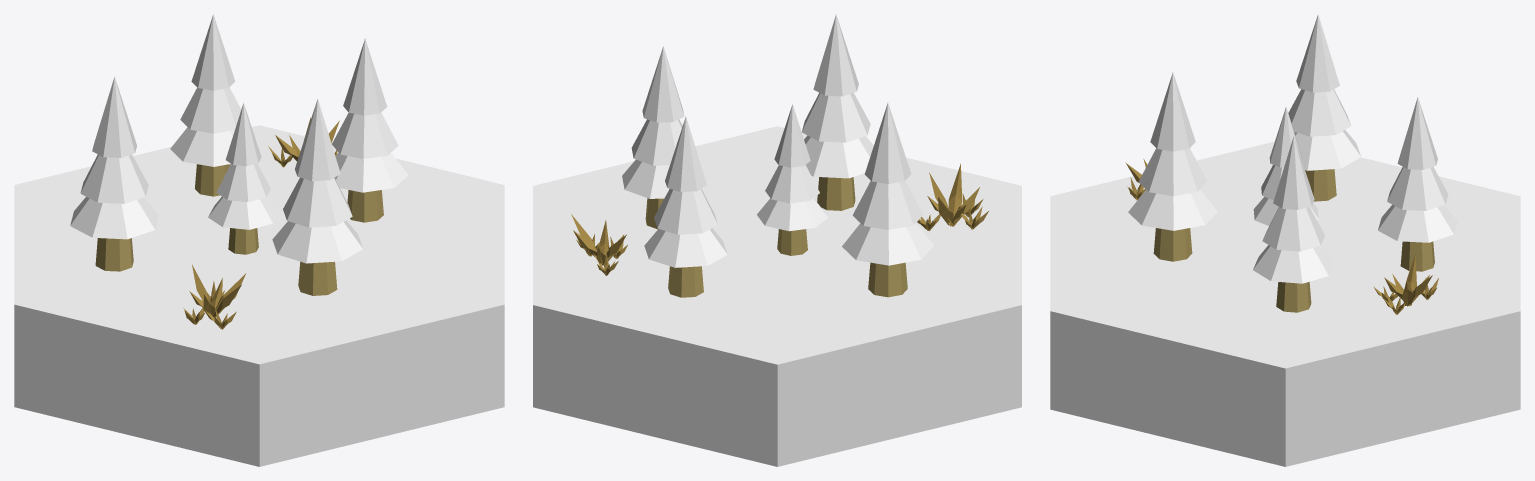
File: Pinos_Bajos_Nieve.fbx
3 renders of one model, left to right at view 1: azimuth 30°, elevation 25°; view 2: azimuth 150°, elevation 25°; view 3: azimuth 270°, elevation 25°, orthographic. The views are drawn at different scales.
Visible parts, largest first — view 1: Pinos_Bajos_Nieve; view 2: Pinos_Bajos_Nieve; view 3: Pinos_Bajos_Nieve.
Part boxes in pixels (x1,y1,x2,y2): Pinos_Bajos_Nieve: (14,14,504,466); Pinos_Bajos_Nieve: (533,14,1021,466); Pinos_Bajos_Nieve: (1050,14,1520,466).
Bounding box in the file's own units: 200 × 114 × 173.
